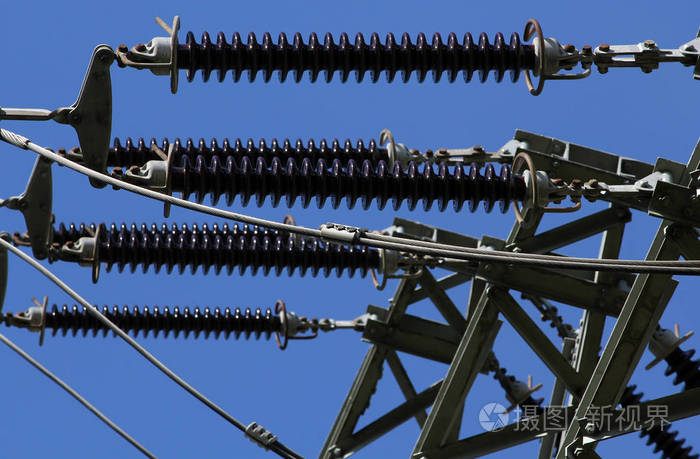insulator: (178, 24, 525, 86), (177, 154, 513, 215), (98, 230, 372, 283), (108, 134, 380, 177), (47, 301, 274, 344), (48, 218, 283, 259)
